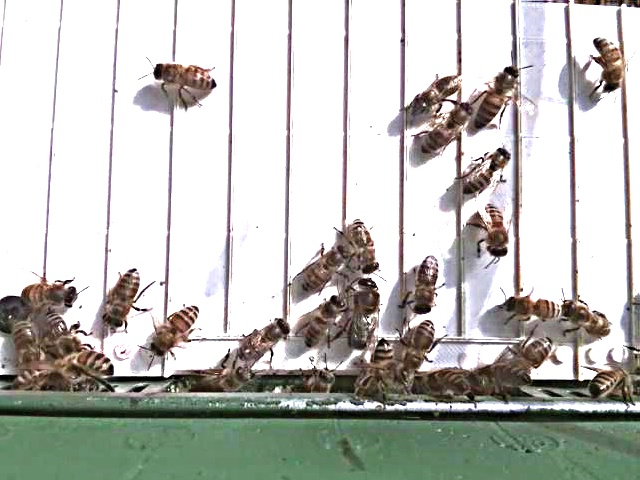Drone: (346, 272, 384, 350)
Worker: (472, 59, 522, 131), (99, 261, 145, 333), (418, 98, 476, 155), (236, 312, 295, 363), (406, 70, 466, 120), (150, 300, 202, 356), (463, 142, 515, 196), (151, 57, 222, 96), (590, 35, 630, 95), (560, 298, 618, 339), (346, 214, 384, 276), (298, 244, 347, 292), (303, 291, 345, 347), (20, 273, 82, 310), (411, 248, 444, 316), (402, 315, 441, 372), (500, 291, 564, 323), (512, 330, 558, 373), (480, 200, 513, 259), (585, 364, 639, 399)
